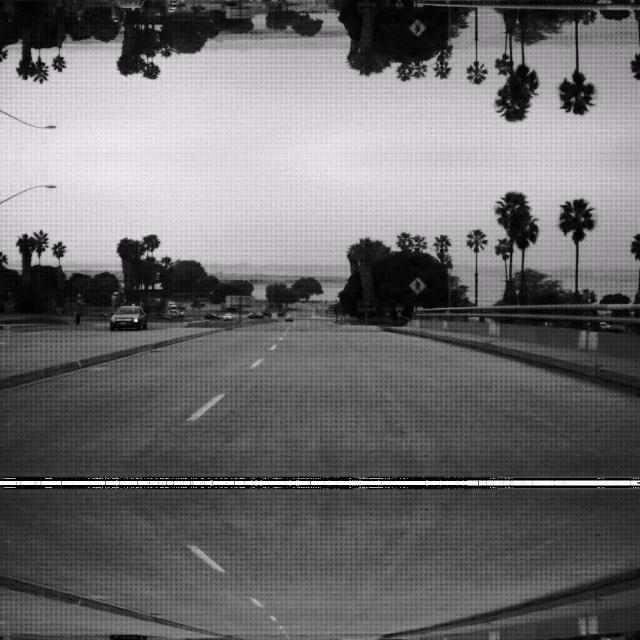pedestrianCrossing: (408, 19, 426, 36), (408, 276, 426, 292)
